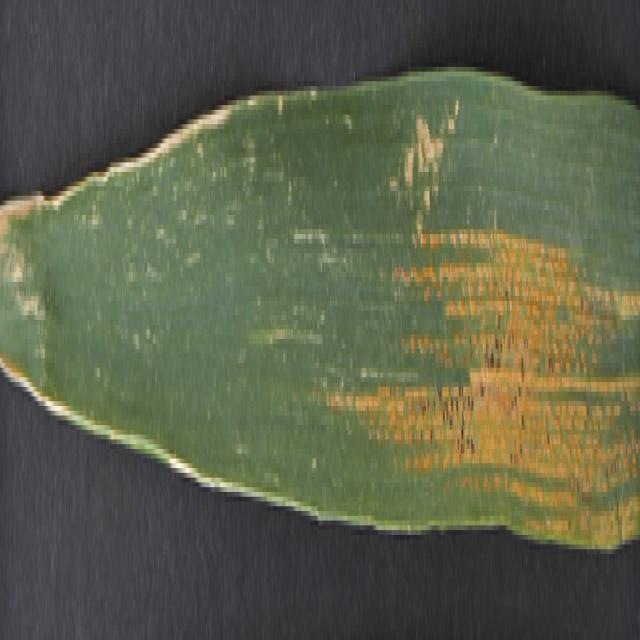leaf rust: (324, 172, 639, 544)
